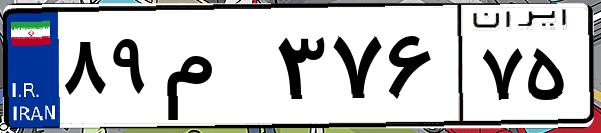3: (270, 28, 330, 110)
5: (525, 38, 570, 115)
6: (385, 28, 445, 110)
7: (330, 28, 385, 110), (475, 38, 525, 113)
8: (57, 26, 110, 100)
9: (110, 28, 158, 98)
م: (158, 20, 270, 120)
